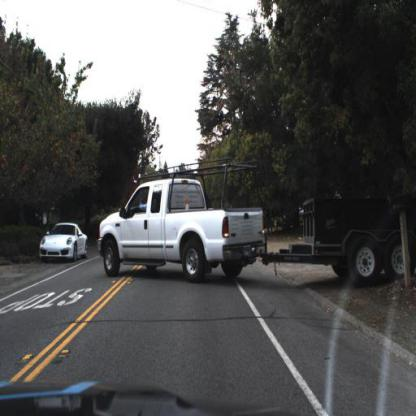car: (39, 222, 87, 263)
truck: (97, 156, 415, 277)
